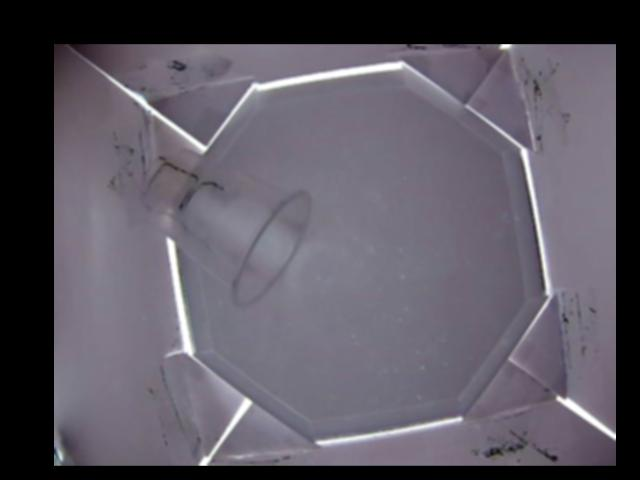Cup: (131, 146, 311, 303)
